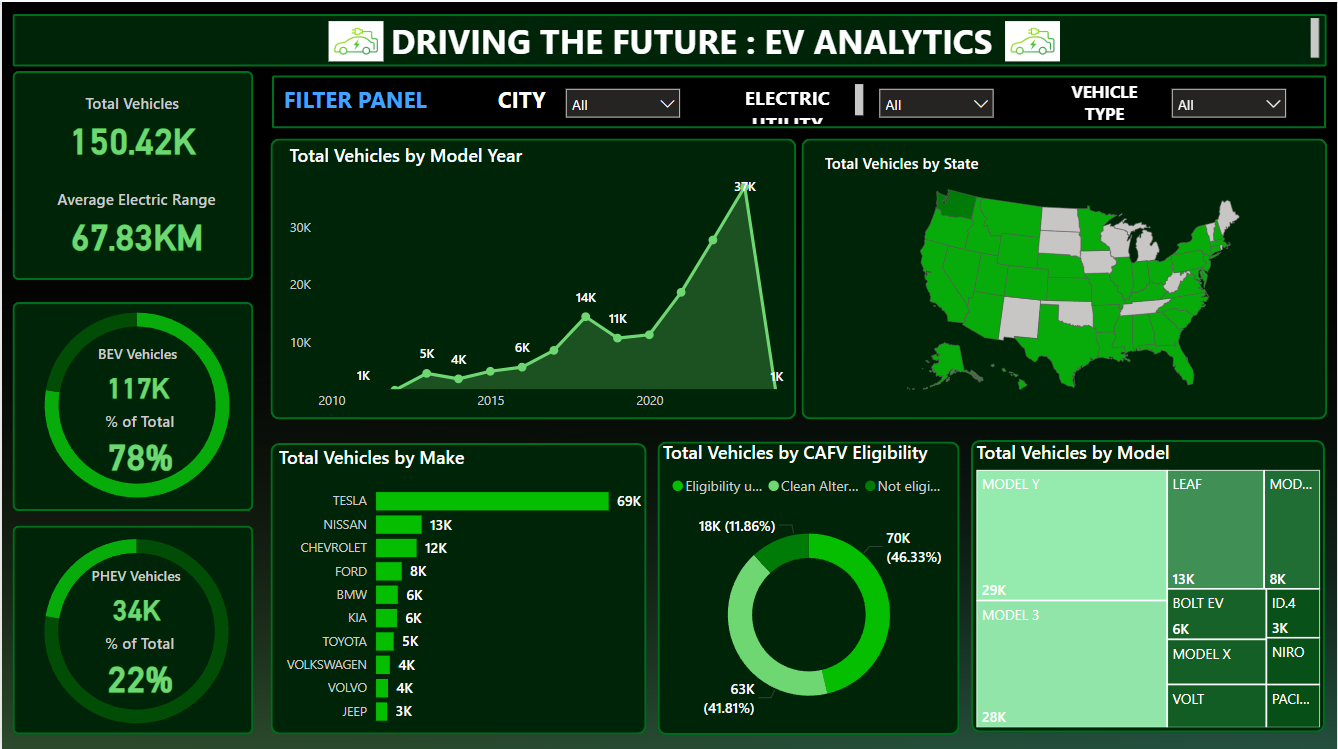

What the dashboard file says about the page in this screenshot:
{"tool":"powerbi","page":{"name":"Page 1","canvas":[1280,720],"ordinal":0},"visuals":[{"type":"shape","box":[9.5,11,1260.1,50.4],"z":0},{"type":"slicer","title":"CITY","fields":{"Values":["Electric_Vehicle_Population_Data.City"]},"box":[530.6,72.9,129.6,48.6],"z":0,"group":"g1"},{"type":"slicer","title":"CITY","fields":{"Values":["Electric_Vehicle_Population_Data.Electric Utility"]},"box":[831.2,72.9,129.6,48.6],"z":0,"group":"g4"},{"type":"slicer","title":"CITY","fields":{"Values":["Electric_Vehicle_Population_Data.Model"]},"box":[1111.9,72.9,129.6,48.6],"z":0,"group":"g3"},{"type":"textbox","box":[0,10.1,1267.8,50.6],"z":1000},{"type":"textbox","box":[1002.4,69,109.4,52.7],"z":1000,"group":"g3"},{"type":"textbox","box":[465.8,72.9,64.8,48.6],"z":1000,"group":"g1"},{"type":"textbox","box":[682.5,73.1,147.8,48.6],"z":1000,"group":"g4"},{"type":"shape","box":[10.1,66.8,230.9,200.5],"z":2000},{"type":"card","title":"Total Vehicles","fields":{"Values":["ALL MEASURES.Total Vehicles"]},"box":[37.8,86.6,174.8,69.3],"z":3000},{"type":"card","title":"Average Electric Range","fields":{"Values":["ALL MEASURES.Average Range"]},"box":[26.8,178,203.2,69.3],"z":4000},{"type":"shape","box":[10.1,287.6,230.9,200.5],"z":5000},{"type":"shape","box":[10.1,502.3,230.9,200.5],"z":6000},{"type":"donutChart","fields":{"Category":["Electric_Vehicle_Population_Data.Electric Vehicle Type"],"Y":["ALL MEASURES.Total Vehicles"]},"box":[0,270.9,258.3,231.5],"z":7000},{"type":"card","title":"BEV Vehicles","fields":{"Values":["ALL MEASURES.BEV Vehicles"]},"box":[56.7,328.1,147.8,62.8],"z":8000},{"type":"card","title":"% of Total","fields":{"Values":["ALL MEASURES.% OF BEV"]},"box":[72.9,390.9,117.5,64.8],"z":9000},{"type":"donutChart","fields":{"Category":["Electric_Vehicle_Population_Data.Electric Vehicle Type"],"Y":["ALL MEASURES.Total Vehicles"]},"box":[0,488.1,257.2,230.9],"z":10000},{"type":"card","title":"PHEV Vehicles","fields":{"Values":["ALL MEASURES.PHEV Vehicles"]},"box":[54.7,540.8,147.8,62.8],"z":11000},{"type":"card","title":"% of Total","fields":{"Values":["ALL MEASURES.% OF PHEV"]},"box":[72.9,603.5,117.5,64.8],"z":12000},{"type":"shape","box":[259.2,70.9,1010.6,50.6],"z":13000},{"type":"shape","box":[256.7,130.7,504,269.3],"z":14000},{"type":"areaChart","fields":{"Y":["ALL MEASURES.Total Vehicles"],"Category":["Electric_Vehicle_Population_Data.Model Year"]},"box":[270.9,135.5,489.9,264.6],"z":15000},{"type":"shape","box":[767.1,130.7,504,269.3],"z":16000},{"type":"shapeMap","fields":{"Category":["Electric_Vehicle_Population_Data.State"],"Value":["ALL MEASURES.Total Vehicles"]},"box":[783.8,143.8,486.1,243],"z":17000},{"type":"shape","box":[257.2,423.3,360.5,279.5],"z":18000},{"type":"barChart","fields":{"Category":["Electric_Vehicle_Population_Data.Make"],"Y":["ALL MEASURES.Total Vehicles"]},"box":[259.9,423.7,357.5,278.8],"z":19000},{"type":"shape","box":[627.8,421.3,289.6,281.5],"z":20000},{"type":"donutChart","title":"Total Vehicles by CAFV Eligibility","fields":{"Category":["Electric_Vehicle_Population_Data.Clean Alternative Fuel Vehicle (CAFV) Eligibility"],"Y":["ALL MEASURES.Total Vehicles"]},"box":[627.8,419.2,289.6,281.5],"z":21000},{"type":"shape","box":[929,419.9,339.4,280.4],"z":22000},{"type":"treemap","fields":{"Group":["Electric_Vehicle_Population_Data.Model"],"Values":["ALL MEASURES.Total Vehicles"]},"box":[929,419.9,339.4,280.4],"z":23000},{"type":"textbox","box":[259.2,72.9,160,48.6],"z":24000},{"type":"group","id":"g1","title":"Group 1","box":[465.8,72.9,194.4,48.6],"z":25000},{"type":"group","id":"g2","title":"Group 1","box":[682.5,72.9,277.5,48.6],"z":26000},{"type":"group","id":"g3","title":"Group 1","box":[1002.4,69,239.2,52.7],"z":27000},{"type":"image","box":[307.8,4.1,62.8,66.8],"z":27001},{"type":"group","id":"g4","title":"Group 2","box":[682.5,72.9,278.4,48.8],"z":27001,"group":"g2"},{"type":"image","box":[955.9,4.1,62.8,66.8],"z":27002}]}

Visuals, with their boxes in screenshot pixels (x1, y1, x2, y2), scaled from the page's 1280x720 canvas onto the 1338x749 screenshot:
shape: 10, 11, 1327, 64
"CITY" slicer: 555, 76, 690, 126
"CITY" slicer: 869, 76, 1004, 126
"CITY" slicer: 1162, 76, 1298, 126
textbox: 0, 11, 1325, 63
textbox: 1048, 72, 1162, 127
textbox: 487, 76, 555, 126
textbox: 713, 76, 868, 127
shape: 11, 69, 252, 278
"Total Vehicles" card: 40, 90, 222, 162
"Average Electric Range" card: 28, 185, 240, 257
shape: 11, 299, 252, 508
shape: 11, 523, 252, 731
donutChart - Electric_Vehicle_Population_Data.Electric Vehicle Type x ALL MEASURES.Total Vehicles: 0, 282, 270, 523
"BEV Vehicles" card: 59, 341, 214, 407
"% of Total" card: 76, 407, 199, 474
donutChart - Electric_Vehicle_Population_Data.Electric Vehicle Type x ALL MEASURES.Total Vehicles: 0, 508, 269, 748
"PHEV Vehicles" card: 57, 563, 212, 628
"% of Total" card: 76, 628, 199, 695
shape: 271, 74, 1327, 126
shape: 268, 136, 795, 416
areaChart - ALL MEASURES.Total Vehicles x Electric_Vehicle_Population_Data.Model Year: 283, 141, 795, 416
shape: 802, 136, 1329, 416
shapeMap - Electric_Vehicle_Population_Data.State x ALL MEASURES.Total Vehicles: 819, 150, 1327, 402
shape: 269, 440, 646, 731
barChart - Electric_Vehicle_Population_Data.Make x ALL MEASURES.Total Vehicles: 272, 441, 645, 731
shape: 656, 438, 959, 731
"Total Vehicles by CAFV Eligibility" donutChart: 656, 436, 959, 729
shape: 971, 437, 1326, 729
treemap - Electric_Vehicle_Population_Data.Model x ALL MEASURES.Total Vehicles: 971, 437, 1326, 729
textbox: 271, 76, 438, 126
"Group 1" group: 487, 76, 690, 126
"Group 1" group: 713, 76, 1004, 126
"Group 1" group: 1048, 72, 1298, 127
image: 322, 4, 387, 74
"Group 2" group: 713, 76, 1004, 127
image: 999, 4, 1065, 74
